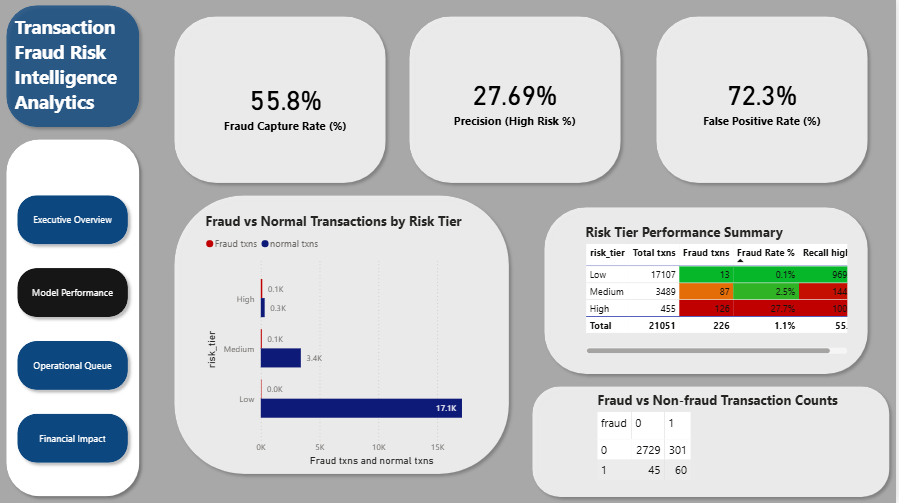

This screenshot's page, from the dashboard's own definition file:
{"tool":"powerbi","page":{"name":"Model Performance","canvas":[1280,720],"ordinal":1},"visuals":[{"type":"shape","box":[752,544,528,176],"z":0},{"type":"shape","box":[0,0,208,192],"z":1000},{"type":"shape","box":[768,288,480,256],"z":2000},{"type":"shape","box":[240,272,496,416],"z":3000},{"type":"shape","box":[928,16,320,256],"z":4000},{"type":"shape","box":[576,16,320,256],"z":5000},{"type":"shape","box":[240,16,320,256],"z":6000},{"type":"card","fields":{"Values":["transaction_risk_score_final.Precision High %"]},"box":[592,0,288,288],"z":7000},{"type":"card","fields":{"Values":["transaction_risk_score_final.False Positive %"]},"box":[928,0,320,288],"z":8000},{"type":"shape","box":[0,192,208,528],"z":9000,"group":"g1"},{"type":"clusteredBarChart","title":"Fraud vs Normal Transactions by Risk Tier","fields":{"Category":["transaction_risk_score_final.risk_tier"],"Y":["transaction_risk_score_final.Fraud txns","transaction_risk_score_final.normal txns"]},"box":[288,304,416,368],"z":9000},{"type":"tableEx","title":"Risk Tier Performance Summary","fields":{"Values":["transaction_risk_score_final.risk_tier","transaction_risk_score_final.Total txns","transaction_risk_score_final.Fraud txns","transaction_risk_score_final.Fraud Rate %","transaction_risk_score_final.Recall high %"]},"box":[832,320,384,192],"z":10000},{"type":"group","id":"g1","title":"Group 1","box":[0,16,224,704],"z":11000},{"type":"pivotTable","title":"Fraud vs Non-fraud Transaction Counts","fields":{"Rows":["transaction_risk_score_final.fraud"],"Columns":["transaction_risk_score_final.Predicted Fraud Flag"],"Values":["Count(transaction_risk_score_final.customer)"]},"box":[848,560,368,160],"z":12000},{"type":"card","fields":{"Values":["WF Axis.Fraud Capture Rate %"]},"box":[256,0,304,304],"z":13000},{"type":"textbox","box":[16,16,208,176],"z":16002,"group":"g1"},{"type":"pageNavigator","box":[16,272,176,400],"z":23502,"group":"g1"}]}

Visuals, with their boxes in screenshot pixels (x1, y1, x2, y2), scaled from the page's 1280x720 canvas onto the 899x503 screenshot:
shape: crop(528, 380, 898, 502)
shape: crop(0, 0, 146, 134)
shape: crop(539, 201, 877, 380)
shape: crop(169, 190, 517, 481)
shape: crop(652, 11, 877, 190)
shape: crop(405, 11, 629, 190)
shape: crop(169, 11, 393, 190)
card - transaction_risk_score_final.Precision High %: crop(416, 0, 618, 201)
card - transaction_risk_score_final.False Positive %: crop(652, 0, 877, 201)
shape: crop(0, 134, 146, 502)
"Fraud vs Normal Transactions by Risk Tier" clusteredBarChart: crop(202, 212, 494, 469)
"Risk Tier Performance Summary" tableEx: crop(584, 224, 854, 358)
"Group 1" group: crop(0, 11, 157, 502)
"Fraud vs Non-fraud Transaction Counts" pivotTable: crop(596, 391, 854, 502)
card - WF Axis.Fraud Capture Rate %: crop(180, 0, 393, 212)
textbox: crop(11, 11, 157, 134)
pageNavigator: crop(11, 190, 135, 469)
